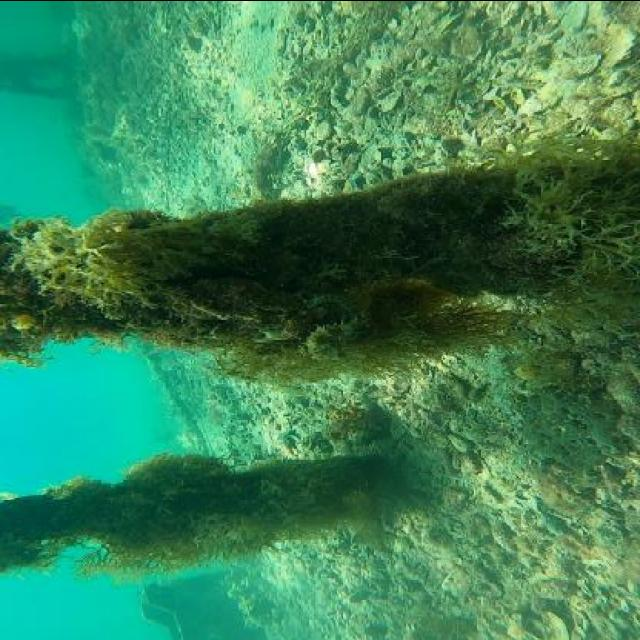Guttu: (304, 322, 358, 359)
